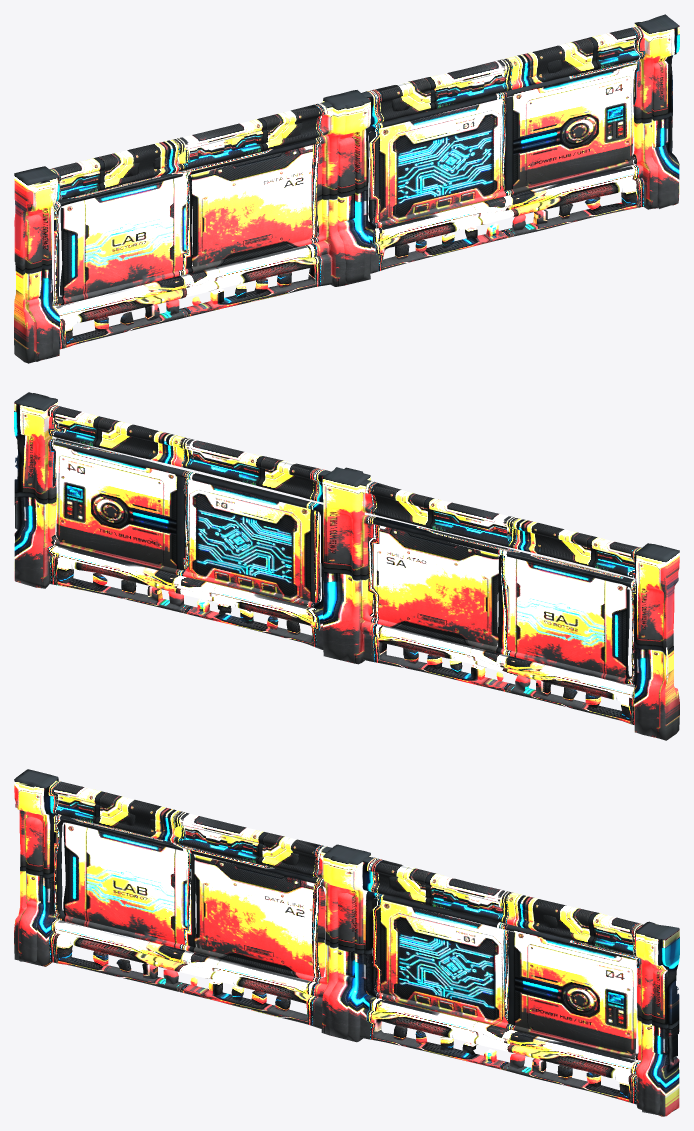
Rendered from wall_tech.glb.
The picture shows the model from 3 angles, top to bottom: view 1: azimuth 30°, elevation 25°; view 2: azimuth 150°, elevation 25°; view 3: azimuth 330°, elevation 25°; orthographic projection.
Visible parts, largest first — view 1: Wall_Tech; view 2: Wall_Tech; view 3: Wall_Tech.
Boxes of the visible parts, x1,y1,x2,y2 form: Wall_Tech: [14, 14, 679, 363]; Wall_Tech: [14, 392, 679, 740]; Wall_Tech: [14, 769, 679, 1116].
Bounding box in the file's own units: 1 × 0.2672 × 0.045.
1 material, 1 textured.
